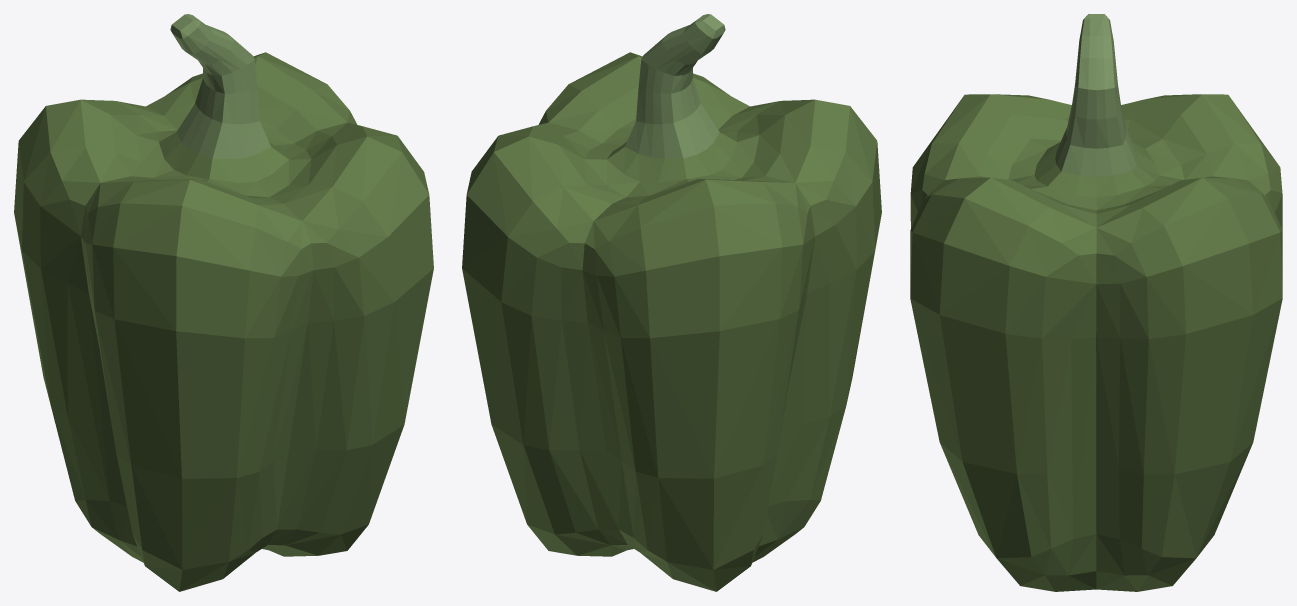
The model's file is pepper-green.glb.
3 views of the same model, side by side, from view 1: azimuth 30°, elevation 25°; view 2: azimuth 150°, elevation 25°; view 3: azimuth 270°, elevation 25° (orthographic). The views are drawn at different scales.
Parts seen in each view (by area): view 1: Pepper_Green; view 2: Pepper_Green; view 3: Pepper_Green.
Boxes of the visible parts, x1,y1,x2,y2 form: Pepper_Green: (14,14,433,591); Pepper_Green: (462,14,881,591); Pepper_Green: (910,14,1282,591).
Size of the model in its own units: 0.674 by 1.12 by 0.7119.
